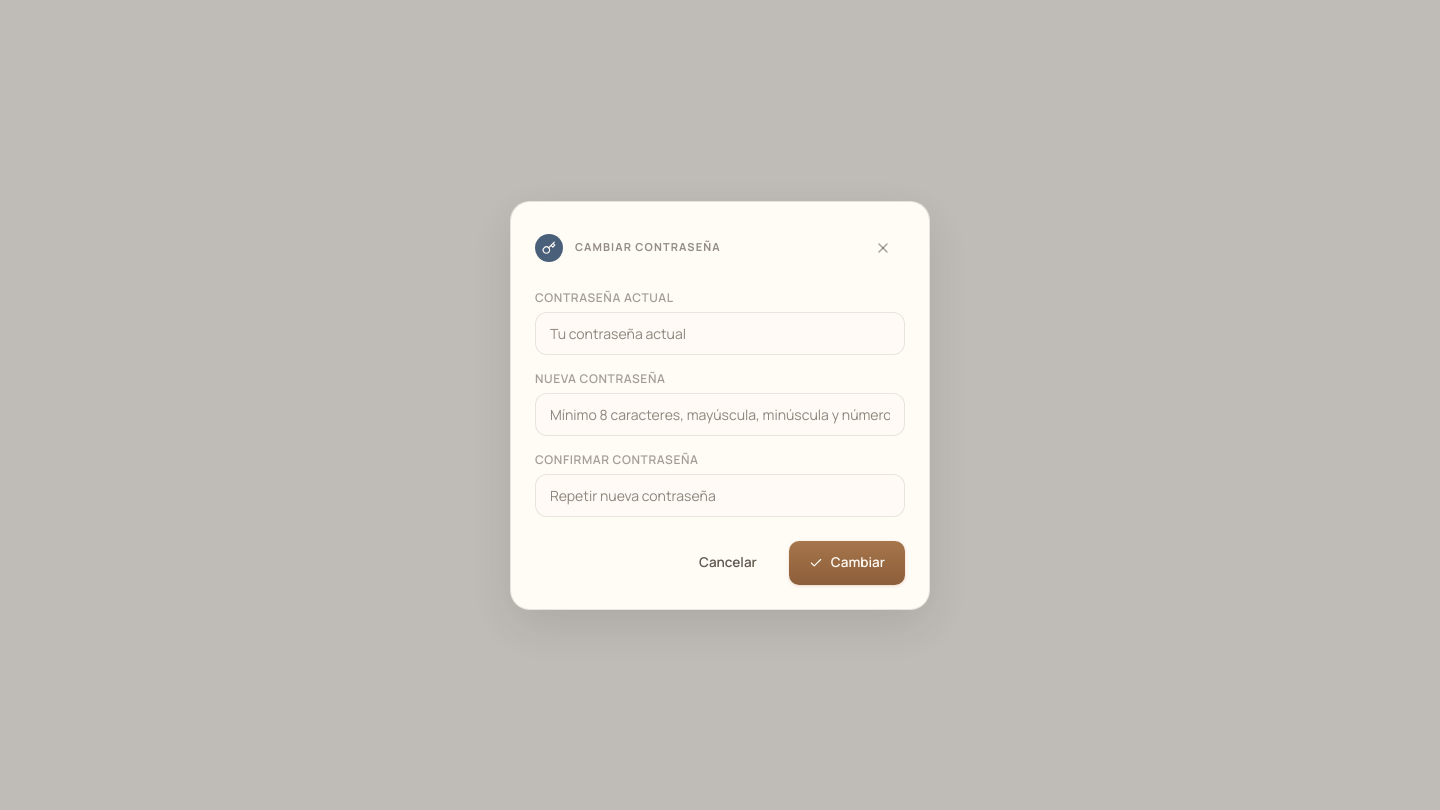
Test: SelfPasswordModal › shows error when new password lacks uppercase
This screenshot has width=1440, height=810.
In the password field labelled "Contraseña actual": [720, 333] box x1=535 y1=312 x2=905 y2=354, type "oldpass"
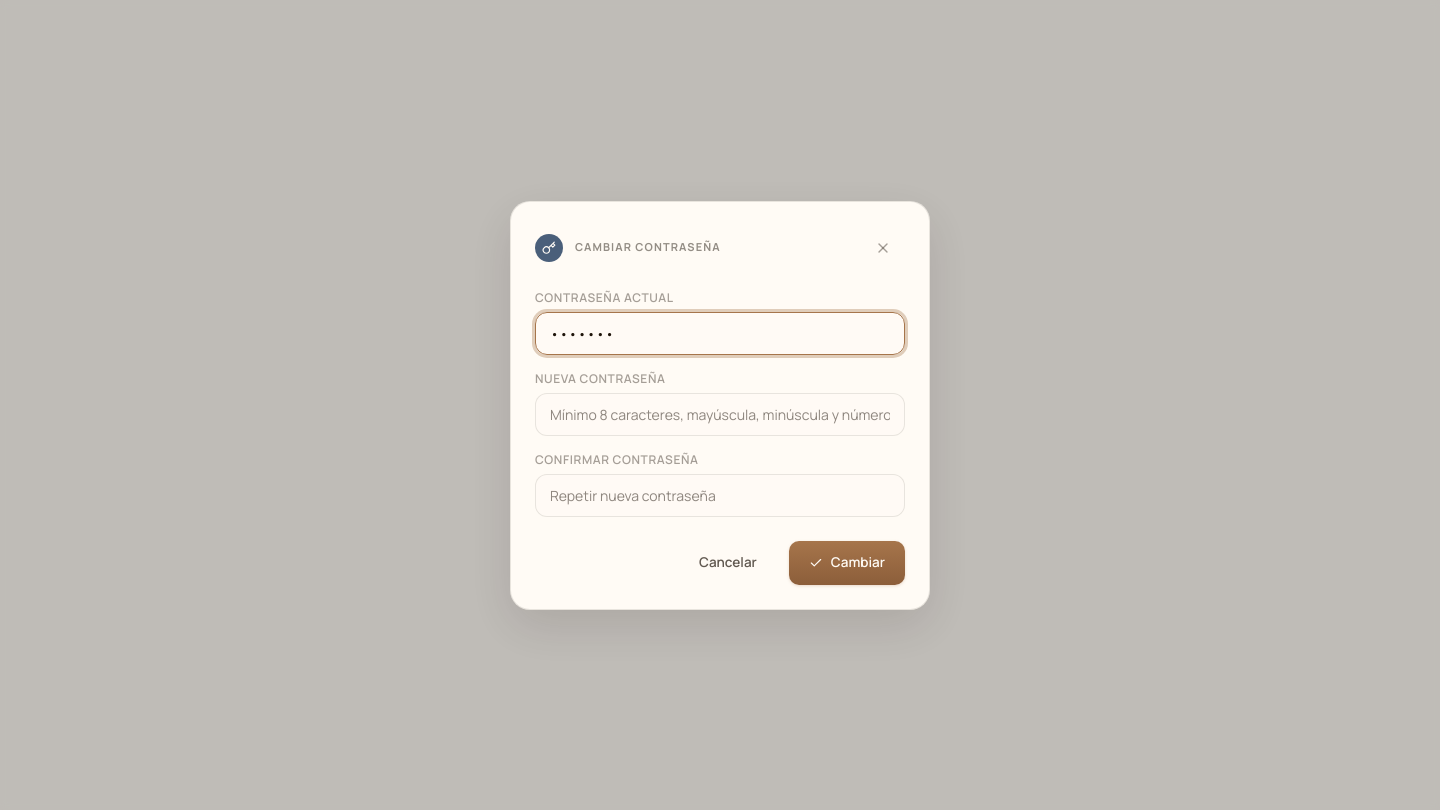
In the password field labelled "Nueva contraseña": [720, 414] box x1=535 y1=392 x2=905 y2=436, type "lowercase1"
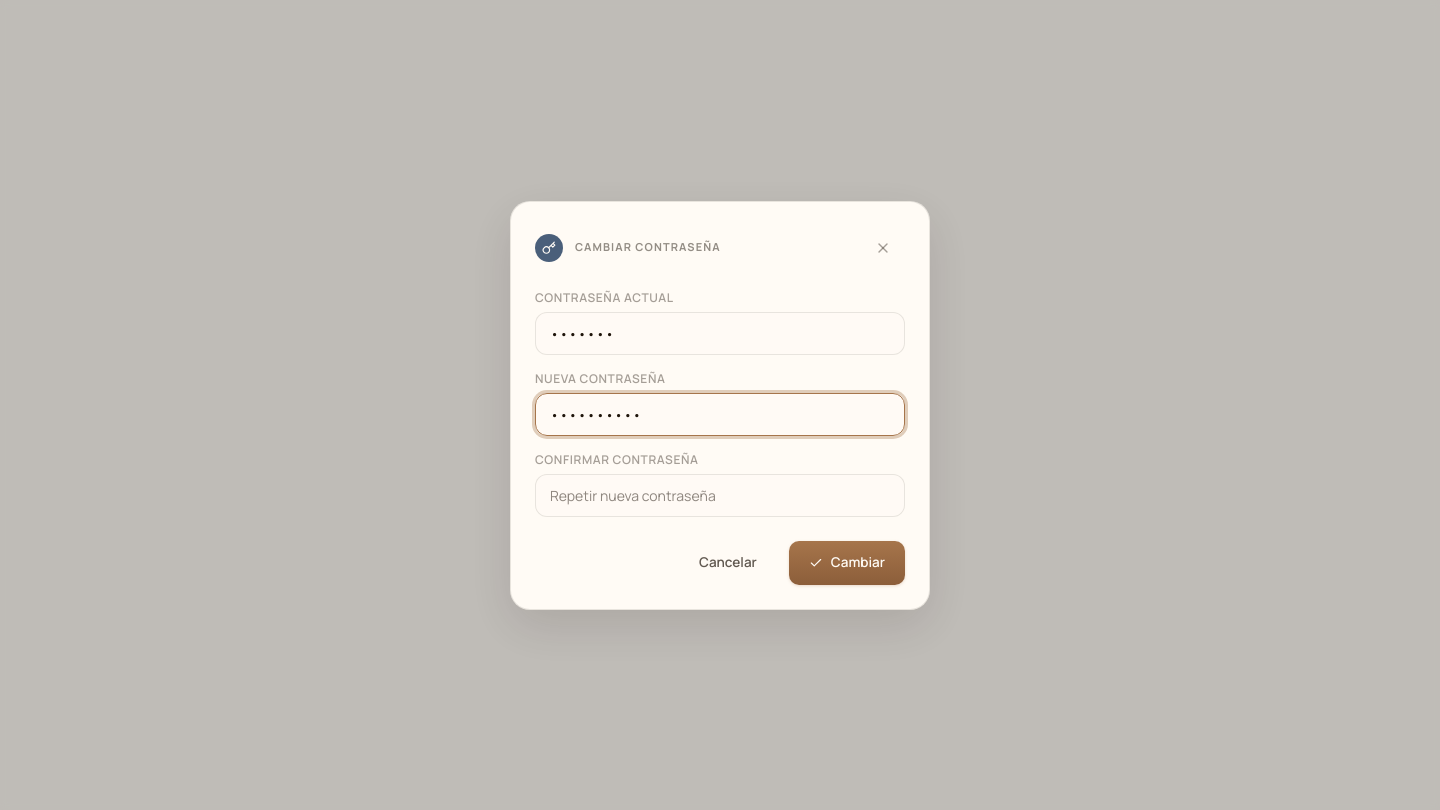
In the password field labelled "Confirmar contraseña": [720, 495] box x1=535 y1=474 x2=905 y2=516, type "lowercase1"
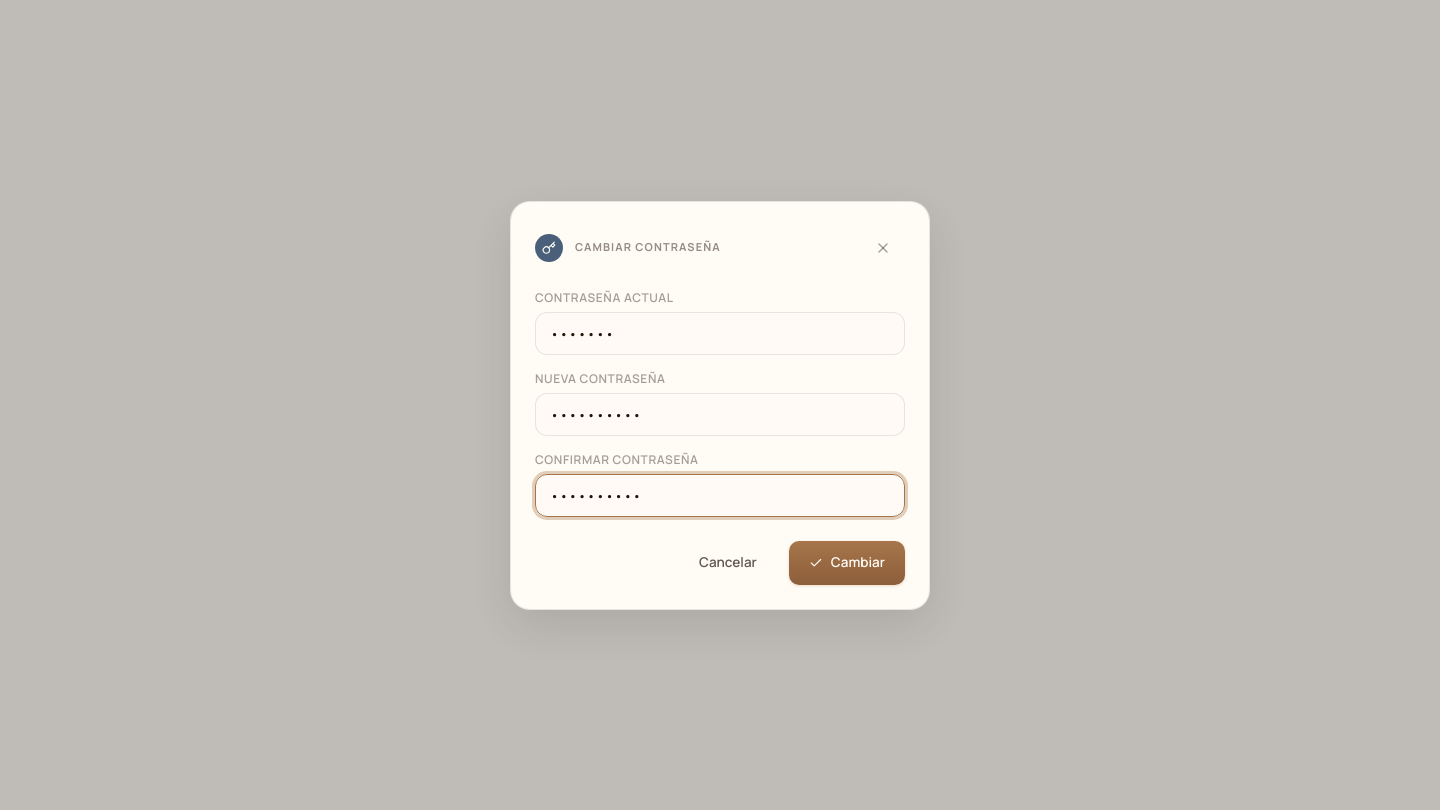
Click the button "Cambiar": [847, 562] box x1=789 y1=540 x2=905 y2=584
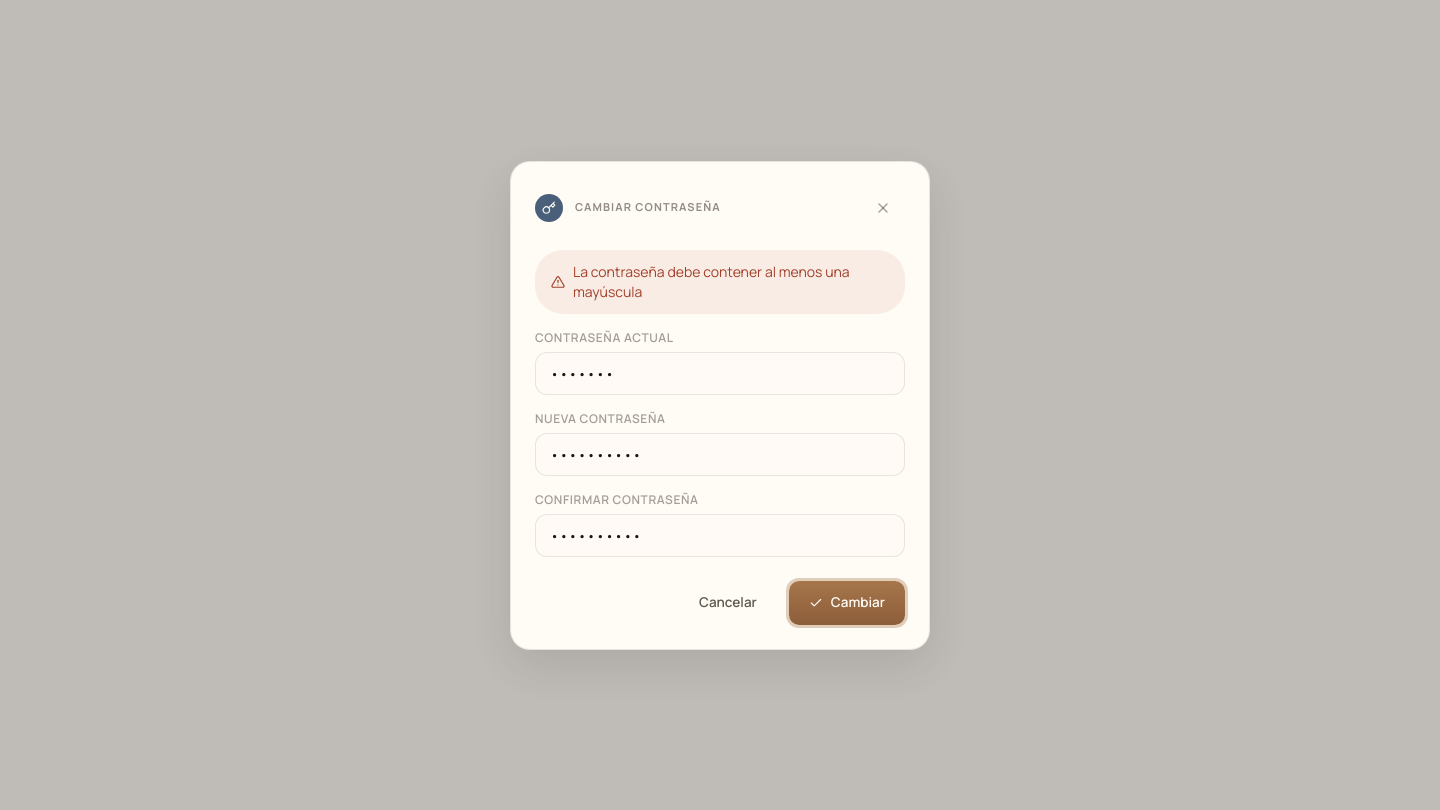
Check: the text "La contraseña debe contener al menos una mayúscula" is shown, box x1=535 y1=250 x2=905 y2=314
